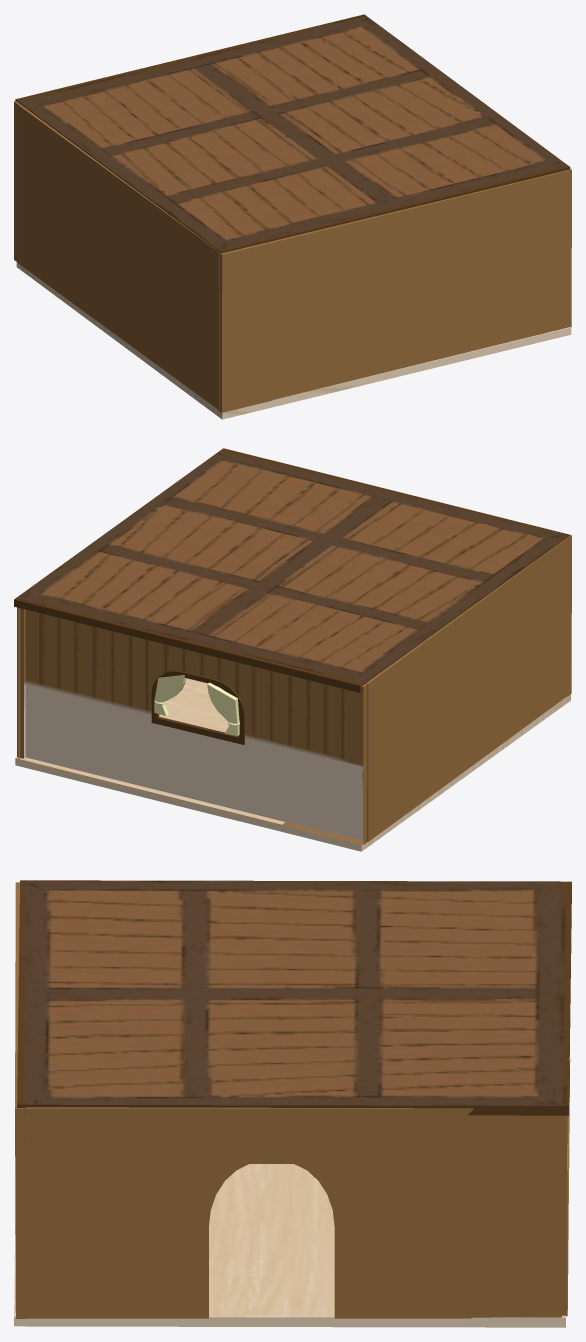
Rendered from Pared final diosplan.fbx.
3 renders of one model, top to bottom at view 1: azimuth 30°, elevation 25°; view 2: azimuth 150°, elevation 25°; view 3: azimuth 270°, elevation 25°, orthographic. The views are drawn at different scales.
Parts seen in each view (by area): view 1: techo, Cube.004, Cube.001, piso, Cube.003; view 2: techo, Cube.003, Cube.001, piso, marco, Cube.002, cortina 2, cortina 1; view 3: techo, Cube.002, piso, Cube.004, Cube.003.
Part boxes in pixels (bbox=[...]): techo: bbox=[15, 14, 570, 253]; Cube.004: bbox=[218, 169, 571, 412]; Cube.001: bbox=[18, 104, 220, 410]; piso: bbox=[16, 262, 571, 419]; Cube.003: bbox=[14, 101, 19, 262]; techo: bbox=[14, 448, 569, 693]; Cube.003: bbox=[18, 608, 367, 844]; Cube.001: bbox=[366, 536, 569, 841]; piso: bbox=[15, 678, 570, 851]; marco: bbox=[151, 670, 244, 744]; Cube.002: bbox=[17, 607, 25, 758]; cortina 2: bbox=[207, 682, 239, 736]; cortina 1: bbox=[154, 675, 186, 715]; techo: bbox=[17, 880, 571, 1115]; Cube.002: bbox=[26, 1107, 561, 1318]; piso: bbox=[14, 1145, 568, 1327]; Cube.004: bbox=[15, 882, 26, 1318]; Cube.003: bbox=[562, 1053, 569, 1316].
Size of the model in its own units: 10790 by 4936 by 11195.
9 materials, 7 textured.
